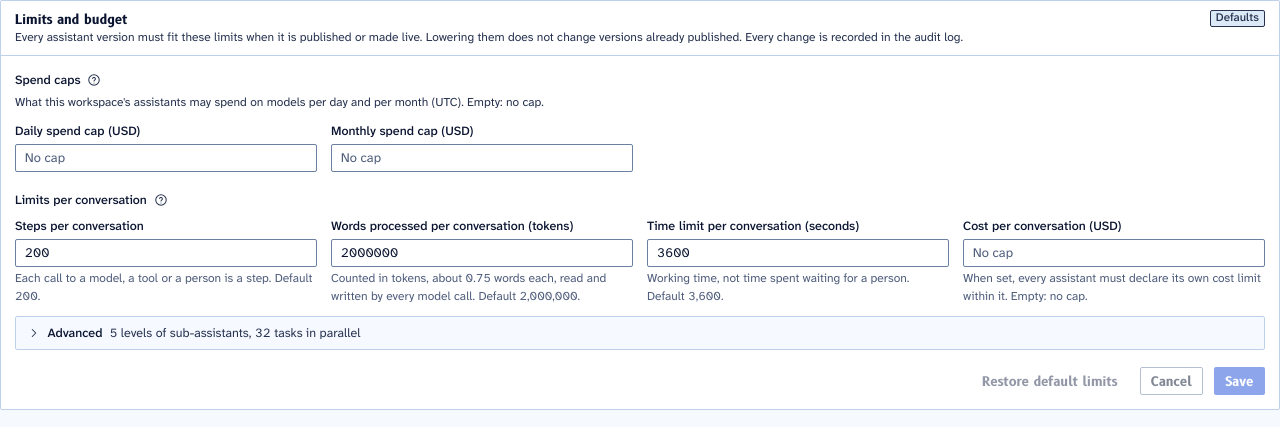
Test: NodeLimitsSection › sends the whole node_caps object when one cap changes
The image size is (1280, 427).
Replace the text in the field labelled "Steps per conversation" with "50" at point(166, 253), box [15,239,317,267]
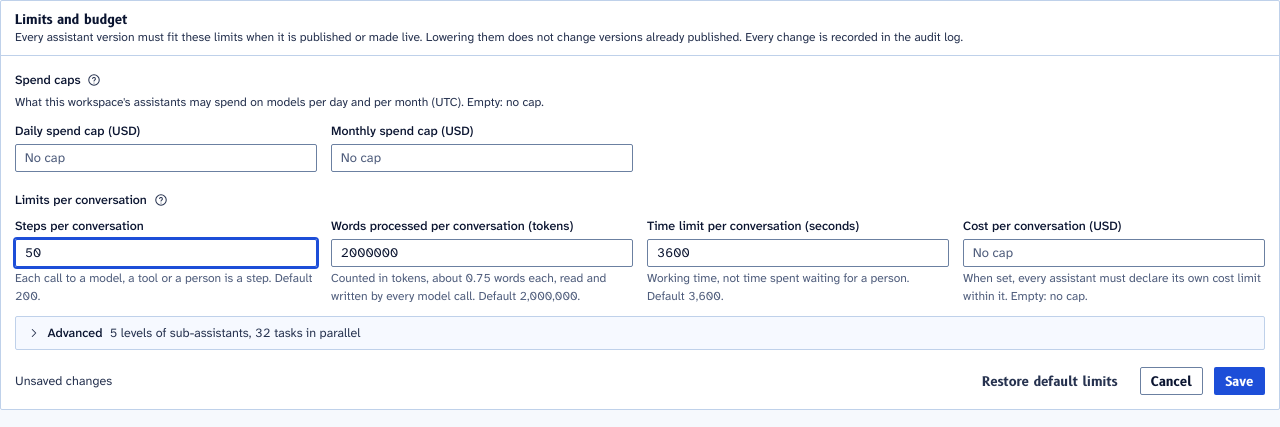
Type "0.5" into the field labelled "Cost per conversation (USD)" at point(1114, 253), box [963,239,1265,267]
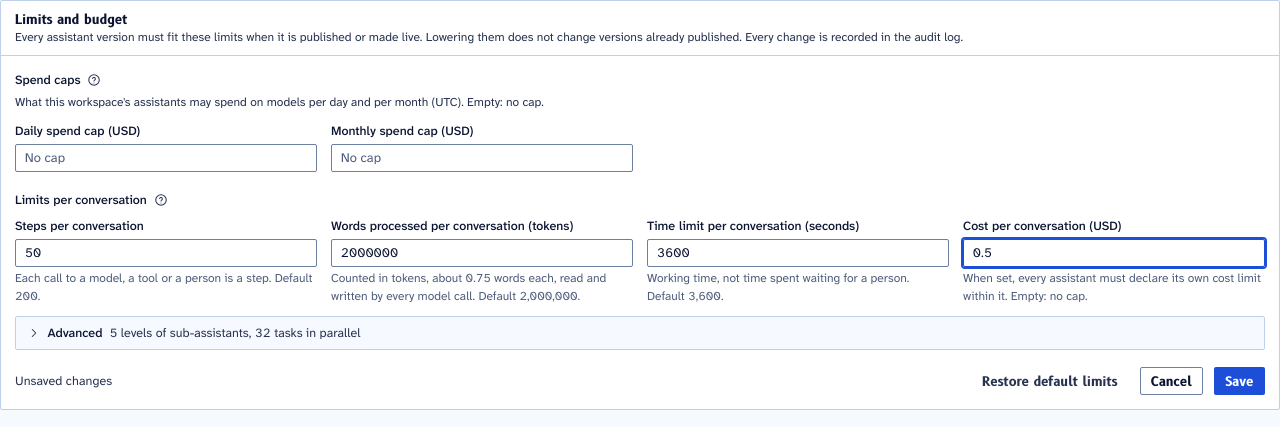
Click the button "Save" at point(1239, 381), box [1214,367,1265,395]
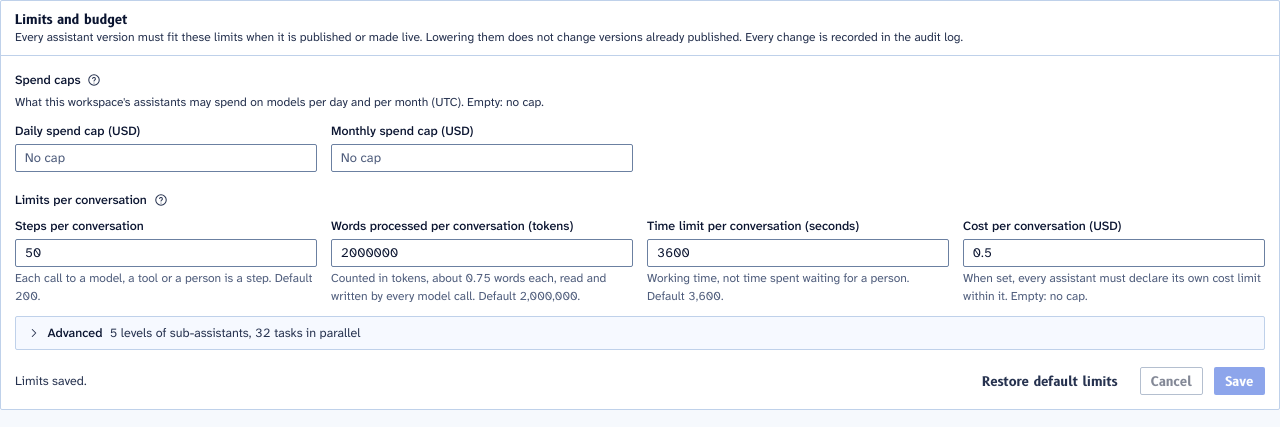
Expected: the text "Defaults" is not shown
Now the message reads "Limits saved.", box [15,373,86,389]
